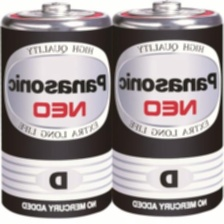battery: (0, 1, 114, 220), (109, 0, 223, 219)
